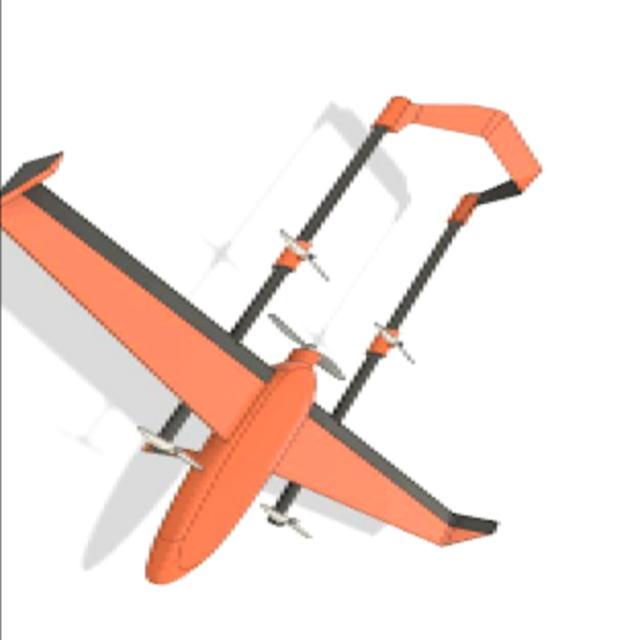plane: (0, 95, 545, 588)
